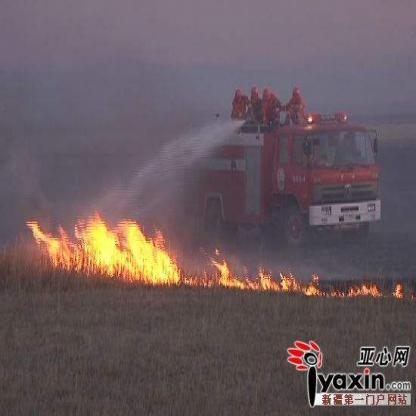fire: (30, 212, 403, 300)
